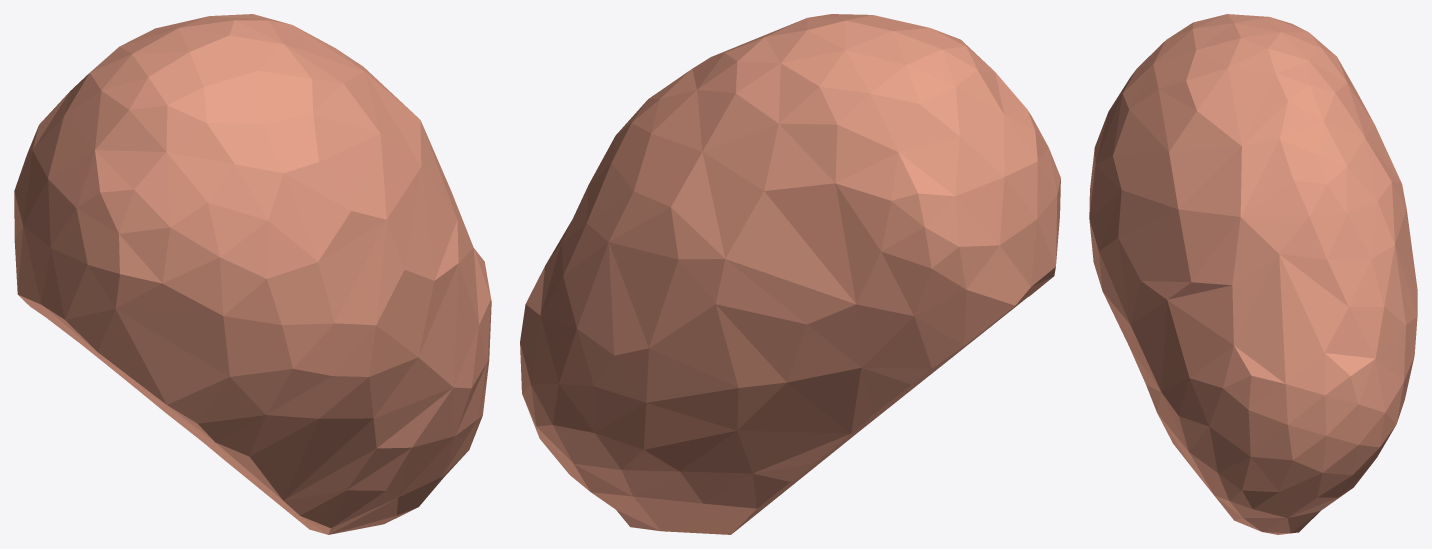
The model's file is Model_657_RH__Posterior_interposed_cerebellar_nucleus_(IntP).obj.
The picture shows the model from 3 angles, left to right: view 1: azimuth 30°, elevation 25°; view 2: azimuth 150°, elevation 25°; view 3: azimuth 270°, elevation 25°; orthographic projection. The views are drawn at different scales.
Bounding box in the file's own units: 0.7687 × 0.84 × 0.5825.
